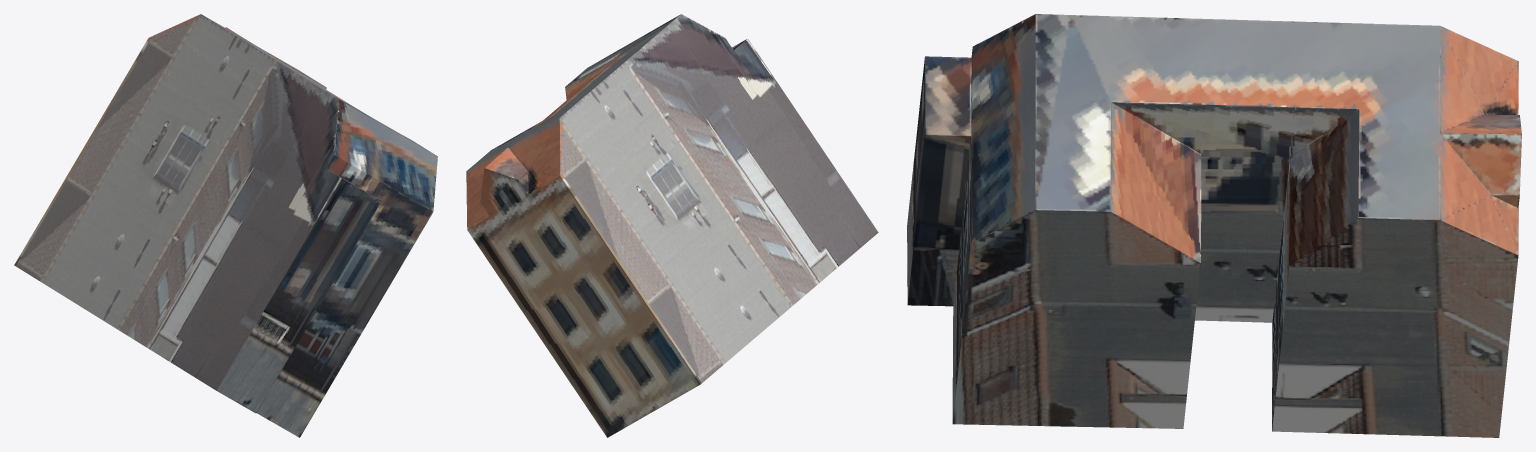
The picture shows the model from 3 angles, left to right: view 1: azimuth 30°, elevation 25°; view 2: azimuth 150°, elevation 25°; view 3: azimuth 270°, elevation 25°; orthographic projection. The views are drawn at different scales.
Parts seen in each view (by area): view 1: BAG_0599100000670765 (×5); view 2: BAG_0599100000670765 (×4); view 3: BAG_0599100000670765 (×5).
Boxes of the visible parts, x1,y1,x2,y2 form: BAG_0599100000670765 (×5): (14,14,437,437); BAG_0599100000670765 (×4): (466,14,878,437); BAG_0599100000670765 (×5): (907,14,1521,437).
Size of the model in its own units: 13.08 by 14.51 by 16.87.
Materials: 6 (6 with a texture image).
